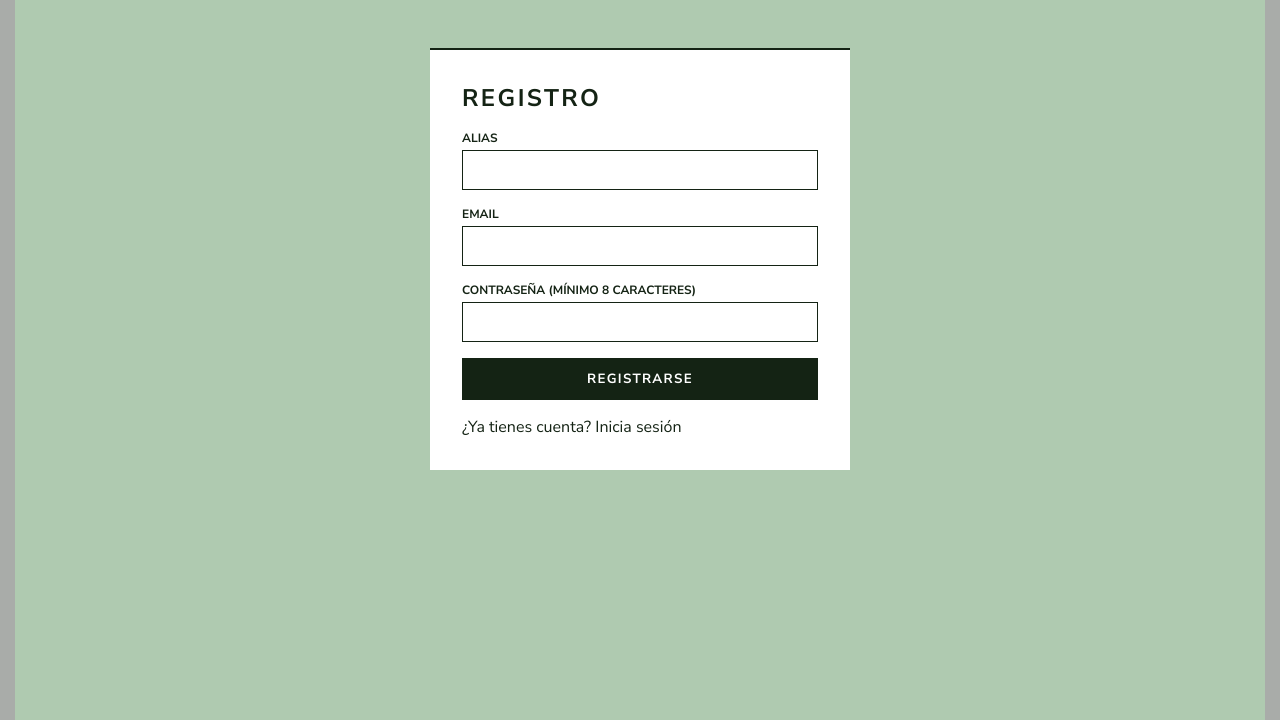
Scenario: Registro › muestra mensaje de error cuando registro falla
The width and height of the screenshot is (1280, 720).
Type "testuser" into the field below "Alias".
click(640, 170); type("testuser")  # box left=462, top=150, right=818, bottom=190
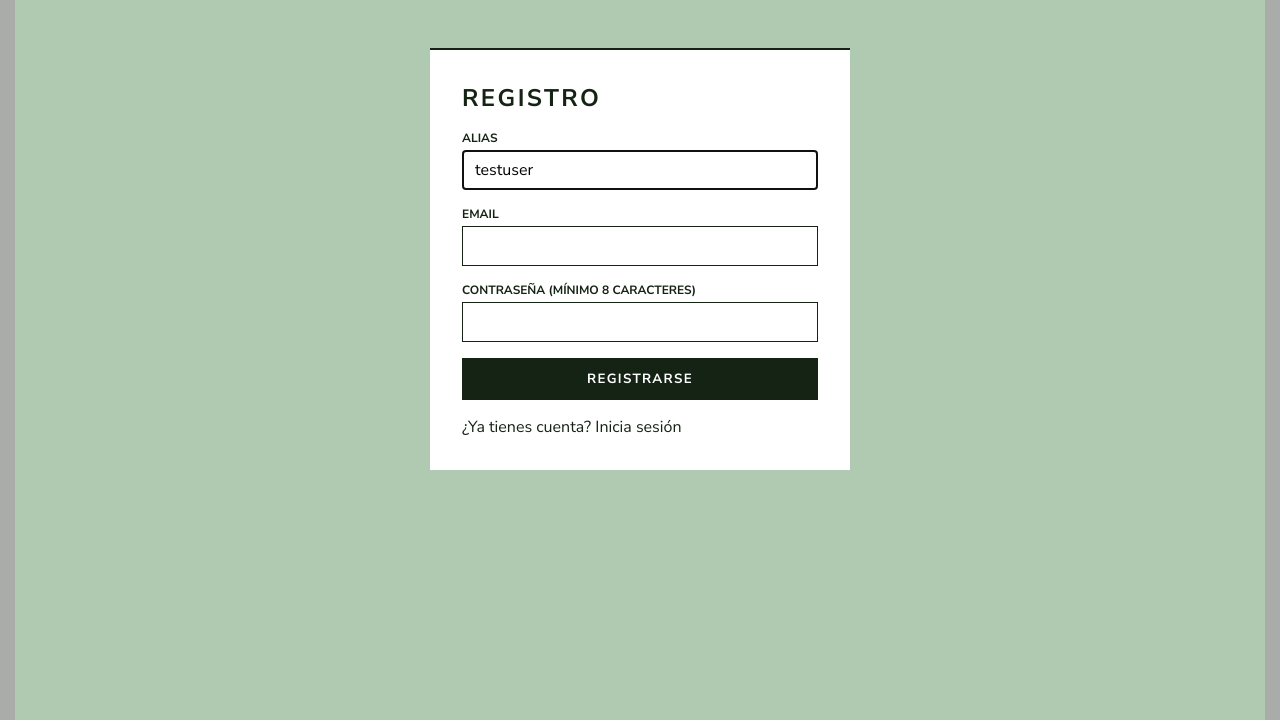
Type "test@test.com" into the field below "Email".
click(640, 246); type("test@test.com")  # box left=462, top=226, right=818, bottom=266
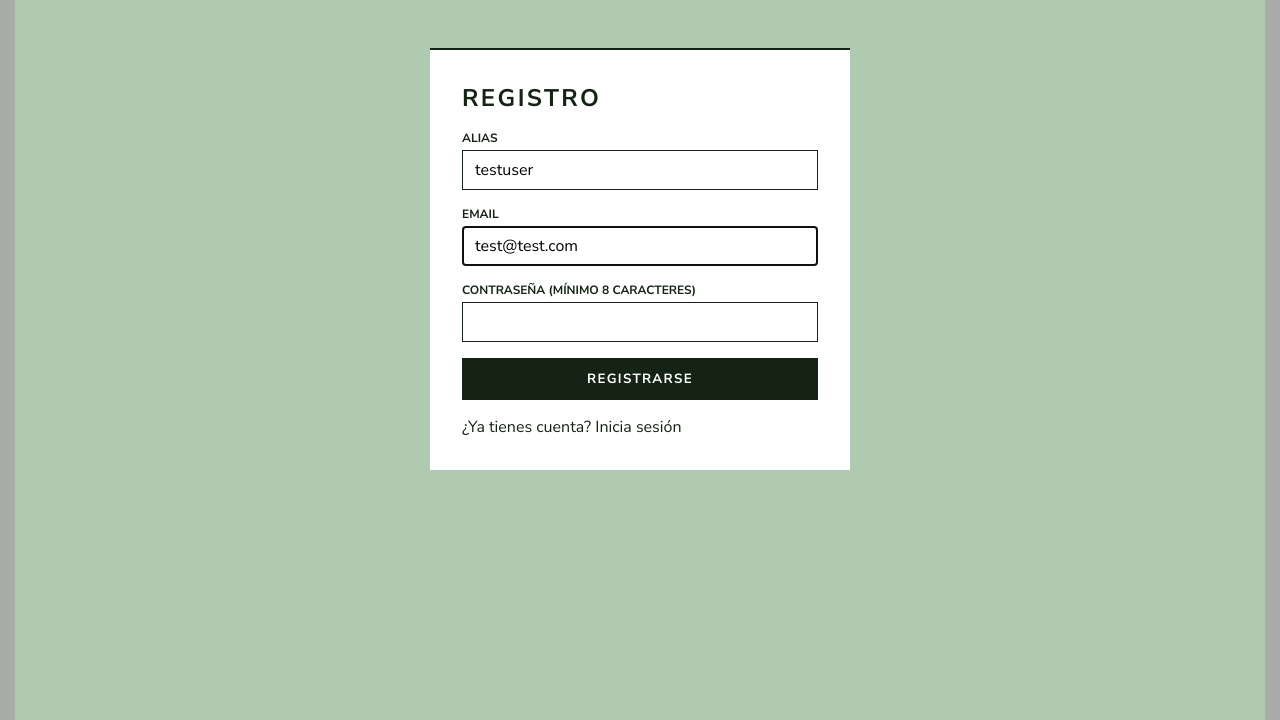
Type "password123" into the password field.
click(640, 322); type("password123")  # box left=462, top=302, right=818, bottom=342
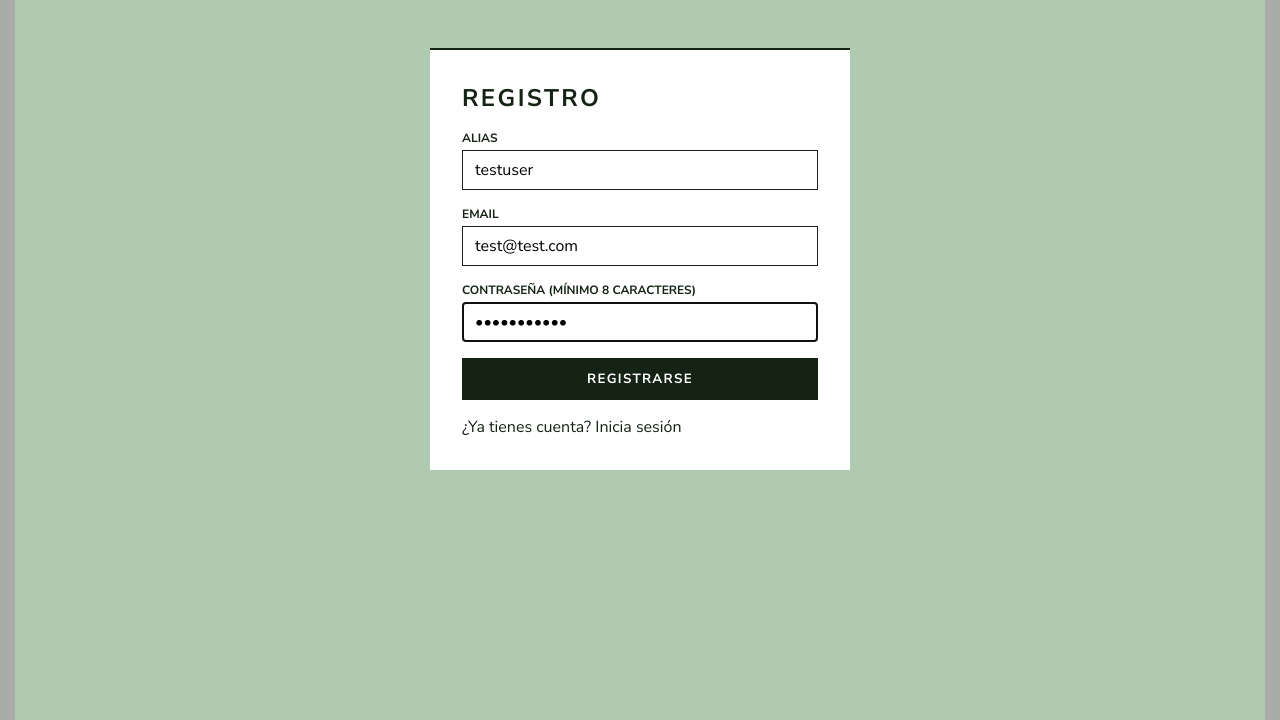
Click the button "Registrarse".
click(640, 379)  # box left=462, top=358, right=818, bottom=400
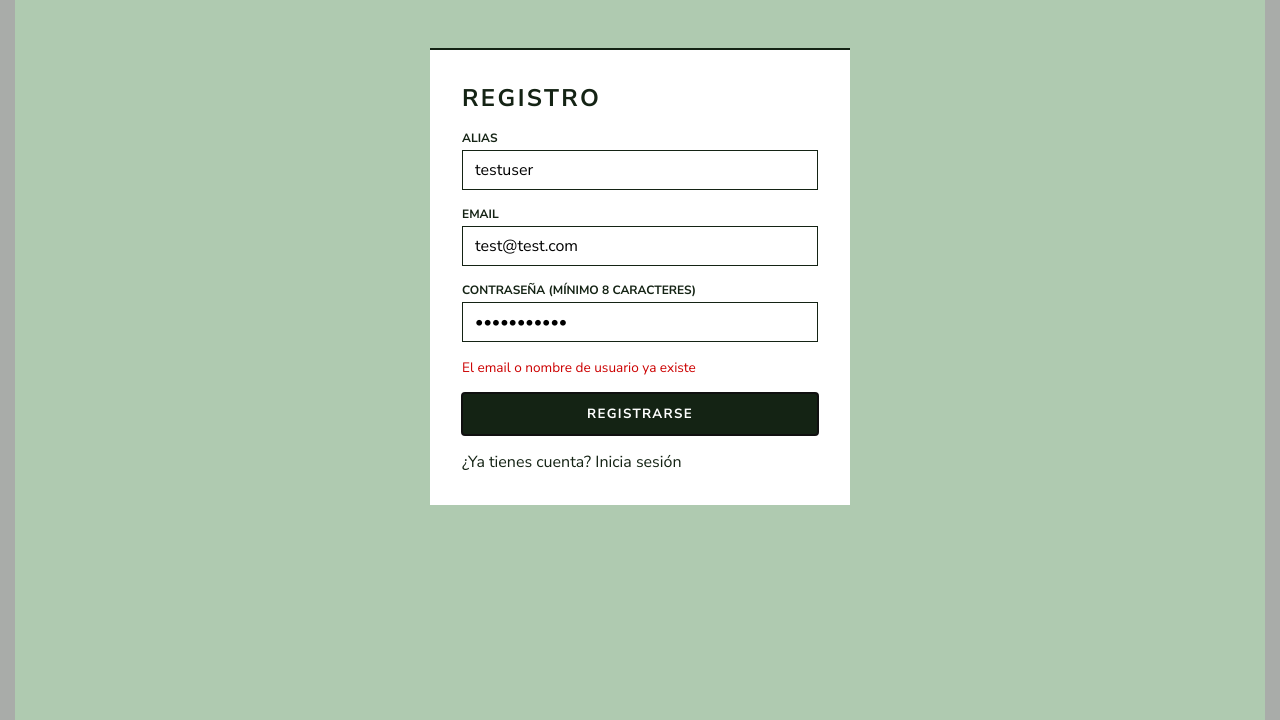
Check: the text "El email o nombre de usuario ya existe" is shown, box left=462, top=358, right=696, bottom=377
